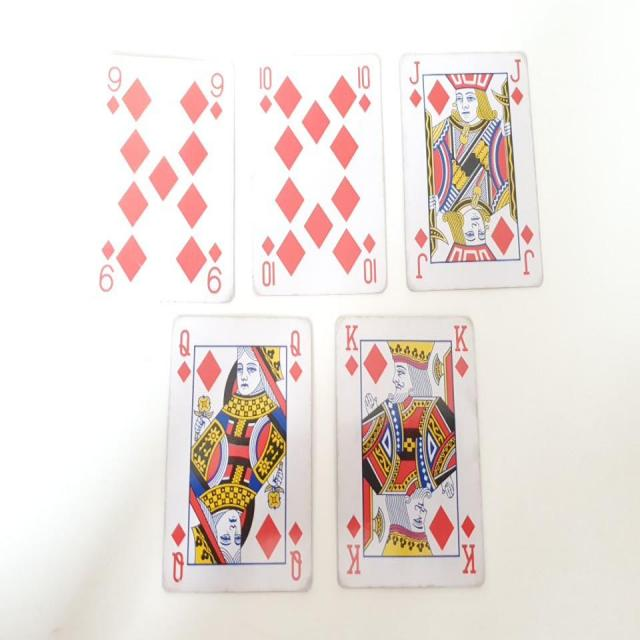10 Diamonds: (247, 49, 390, 296)
9 Diamonds: (86, 49, 235, 302)
J Diamonds: (396, 50, 544, 292)
K Diamonds: (334, 314, 487, 588)
Q Diamonds: (161, 312, 316, 596)
